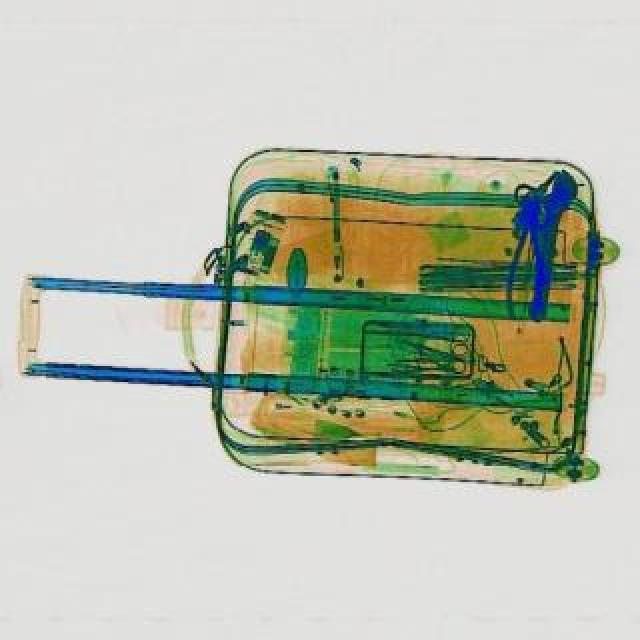pliers: (406, 318, 472, 354)
scissors: (522, 166, 578, 322)
wrench: (502, 200, 548, 316)
